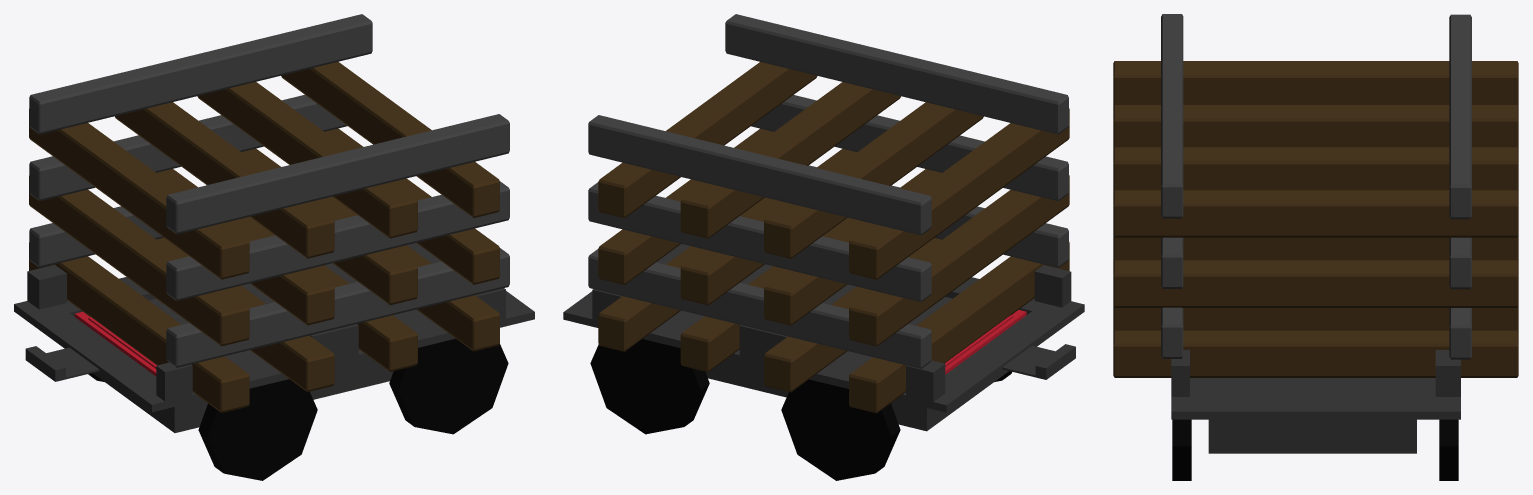
The model's file is track_cart.fbx.
3 renders of one model, left to right at view 1: azimuth 30°, elevation 25°; view 2: azimuth 150°, elevation 25°; view 3: azimuth 270°, elevation 25°, orthographic. The views are drawn at different scales.
Parts seen in each view (by area): view 1: track_cart_track3, Track_cart_track_2, Track_cart_track3, Track_cart_bottom, Track_cart_wheels, Cube.023; view 2: track_cart_track3, Track_cart_track_2, Track_cart_track3, Track_cart_bottom, Track_cart_wheels, Cube.023; view 3: track_cart_track3, Track_cart_track_2, Track_cart_track3, Track_cart_bottom, Track_cart_wheels.
Part boxes in pixels (x1,y1,x2,y2): track_cart_track3: (29,14,509,279); Track_cart_track_2: (29,94,509,346); Track_cart_track3: (29,196,509,412); Track_cart_bottom: (14,243,534,432); Track_cart_wheels: (88,338,508,480); Cube.023: (75,311,156,376); track_cart_track3: (588,14,1069,279); Track_cart_track_2: (588,95,1069,346); Track_cart_track3: (588,165,1069,413); Track_cart_bottom: (563,244,1084,431); Track_cart_wheels: (590,339,1011,480); Cube.023: (945,310,1026,374); track_cart_track3: (1113,14,1518,237); Track_cart_track_2: (1113,236,1518,307); Track_cart_track3: (1113,306,1518,377); Track_cart_bottom: (1171,350,1460,453); Track_cart_wheels: (1172,419,1458,480).
Bounding box in the file's own units: 128 × 87.17 × 100.
